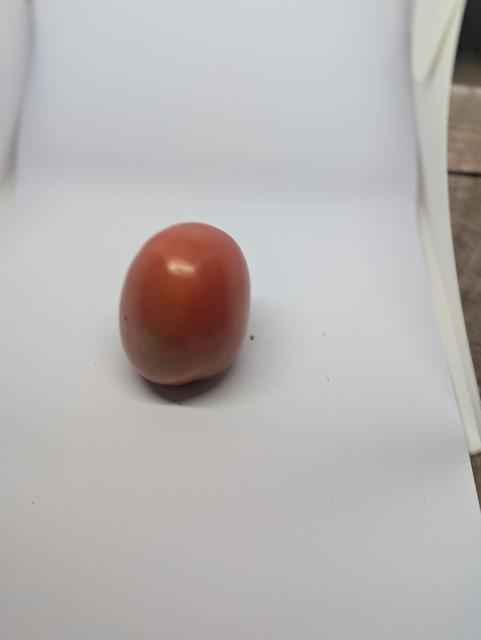red: (117, 213, 254, 403)
